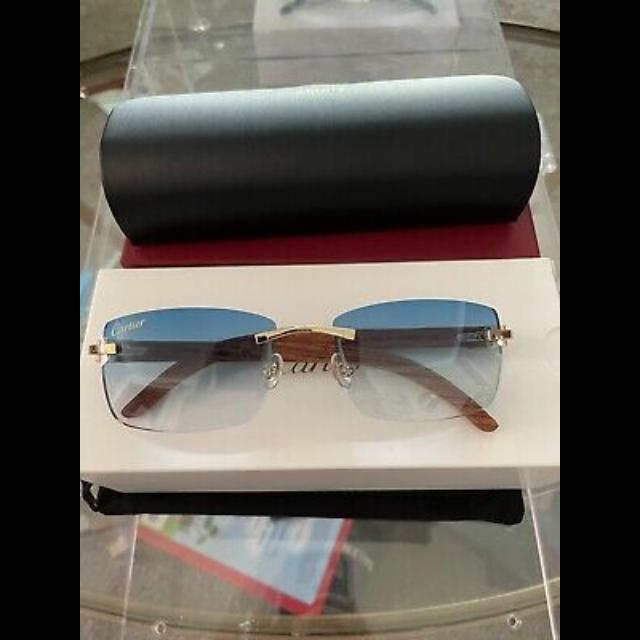sunglasses: (86, 298, 560, 454)
